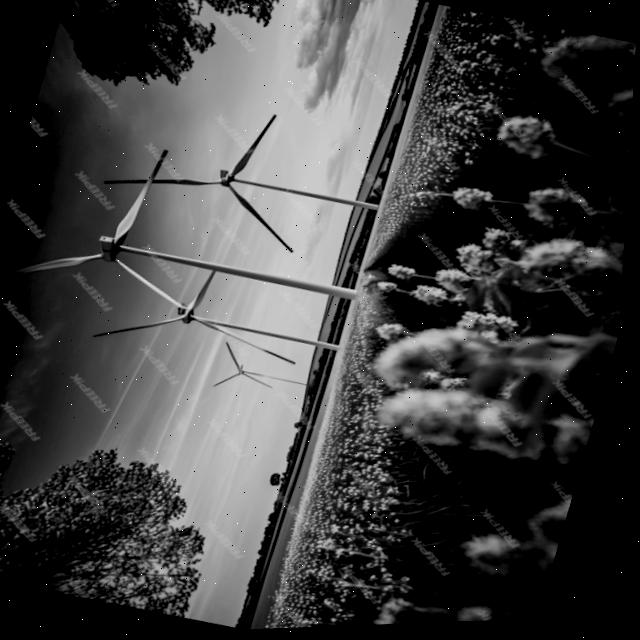solid-blade: (117, 151, 170, 246), (231, 116, 277, 178)
wind-turbine: (228, 183, 295, 252), (119, 260, 188, 308), (0, 254, 103, 278)
